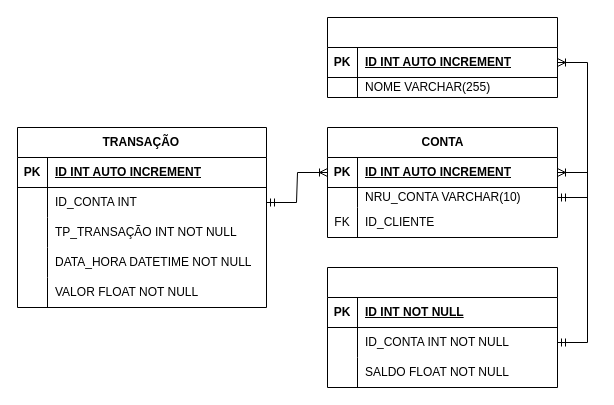
This 614x405 diagram has some shape labels left out. The shapes that lost their labels are listed below. From the top down, each one's box as (x1, y1, x2, y2) in pixels, then its label:
(326, 16, 558, 98): CLIENTE
(326, 266, 558, 388): CARTEIRA
